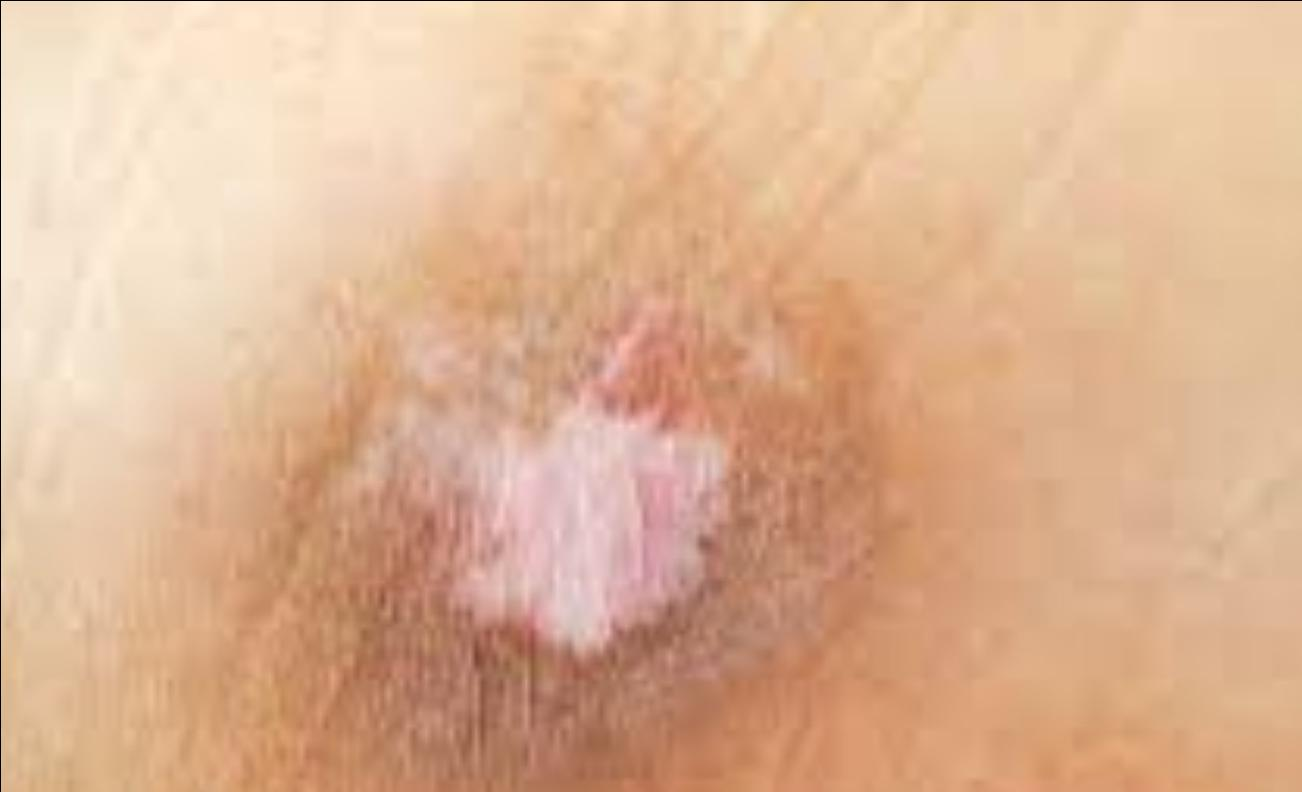Stage2: (364, 365, 767, 771)
